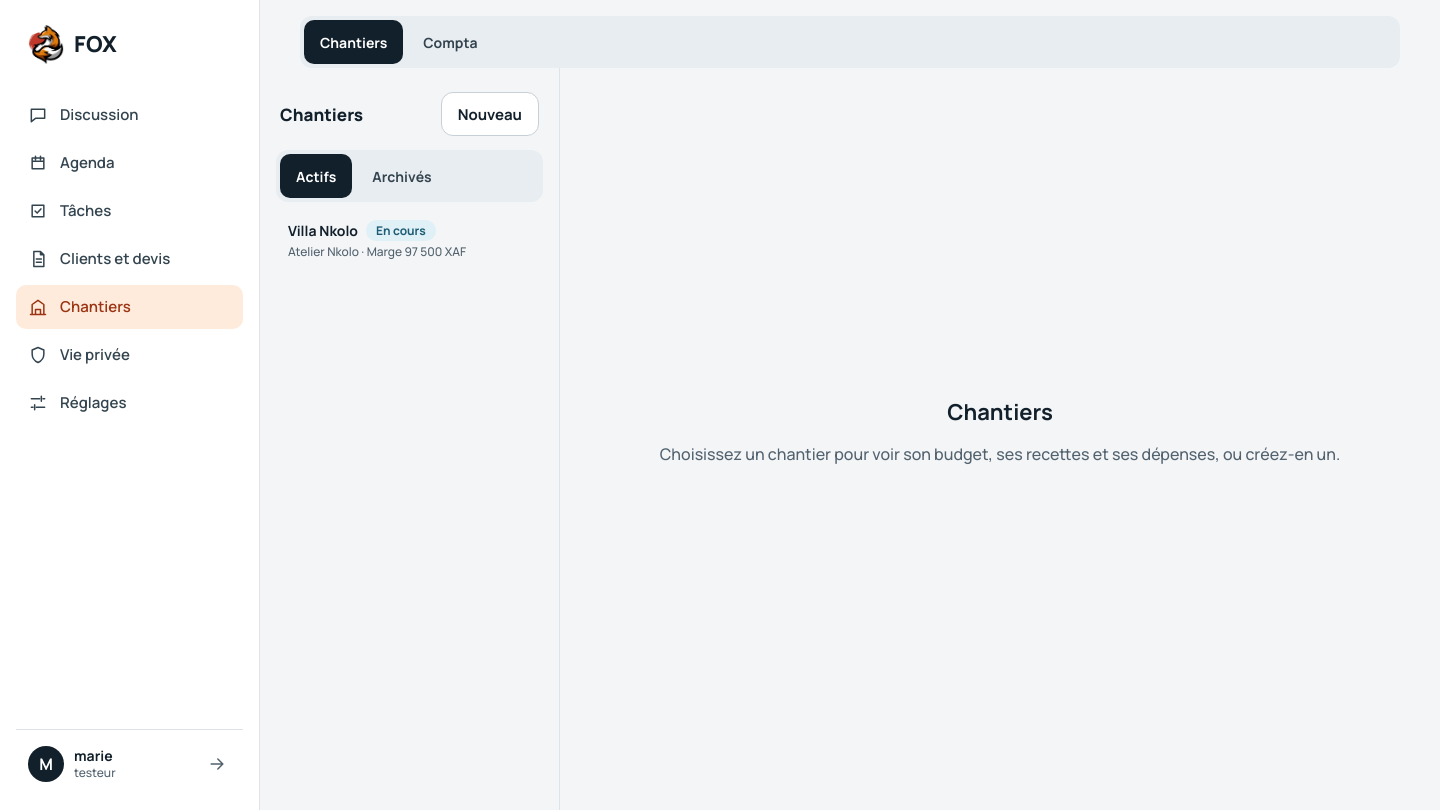
Chantiers › signale un dépassement de budget
Click the button "Villa Nkolo En cours Atelier Nkolo · Marge 97 500 XAF": (410, 240) [276,208,543,272]
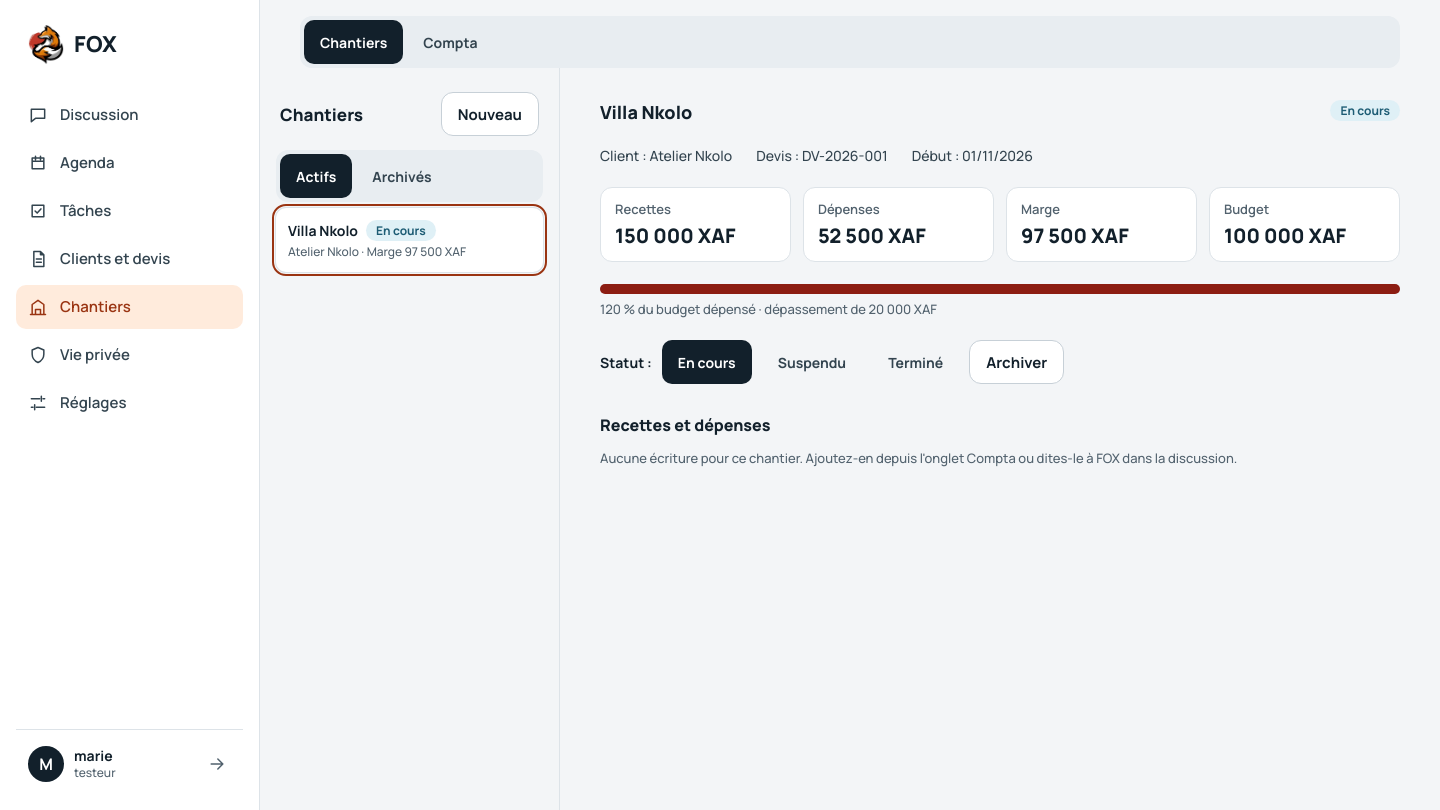
Result: the text "120 % du budget dépensé · dépassement de 20 000 XAF" is shown at [600,300,937,318]
